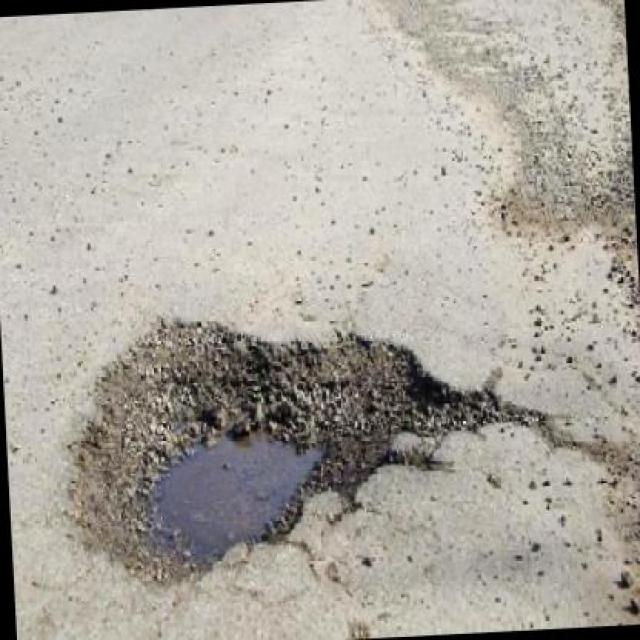pothole1: (56, 294, 492, 589)
